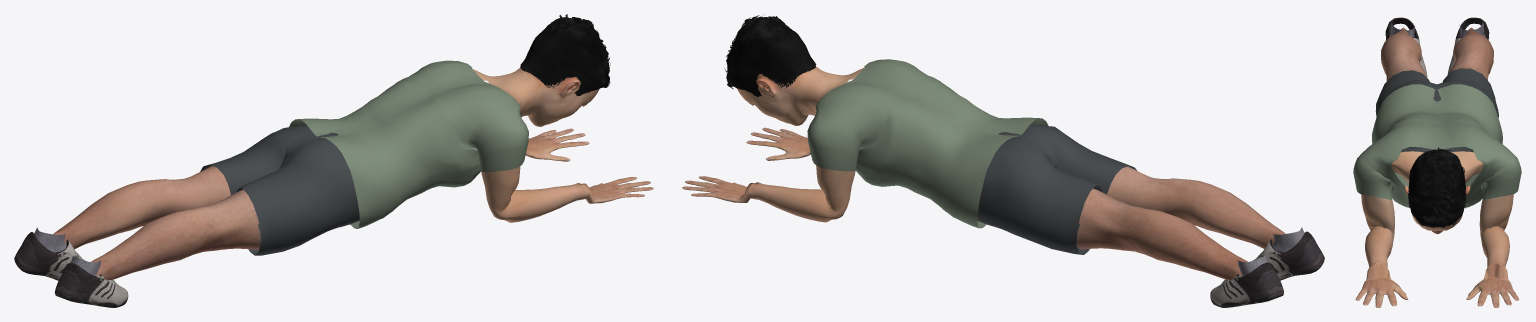
The model's file is pace-athlete-v3.glb.
3 views of the same model, side by side, from view 1: azimuth 30°, elevation 25°; view 2: azimuth 150°, elevation 25°; view 3: azimuth 270°, elevation 25° (orthographic). The views are drawn at different scales.
Parts seen in each view (by area): view 1: Anatomy, Performance tee, Training shorts, Hair, Trainers; view 2: Anatomy, Performance tee, Training shorts, Hair, Trainers; view 3: Performance tee, Anatomy, Hair, Training shorts, Trainers.
Boxes of the visible parts, x1,y1,x2,y2 form: Anatomy: (53,68,653,280); Performance tee: (289,60,528,228); Training shorts: (200,124,359,255); Hair: (520,14,610,95); Trainers: (14,227,128,307); Anatomy: (682,66,1285,280); Performance tee: (807,59,1048,228); Training shorts: (977,124,1136,254); Hair: (725,14,816,96); Trainers: (1210,227,1324,307); Performance tee: (1353,84,1521,207); Anatomy: (1355,27,1518,307); Hair: (1408,147,1466,227); Training shorts: (1375,68,1498,152); Trainers: (1385,17,1489,77).
Size of the model in its own units: 2.54 by 0.6645 by 0.7068.
6 materials, 4 textured.
